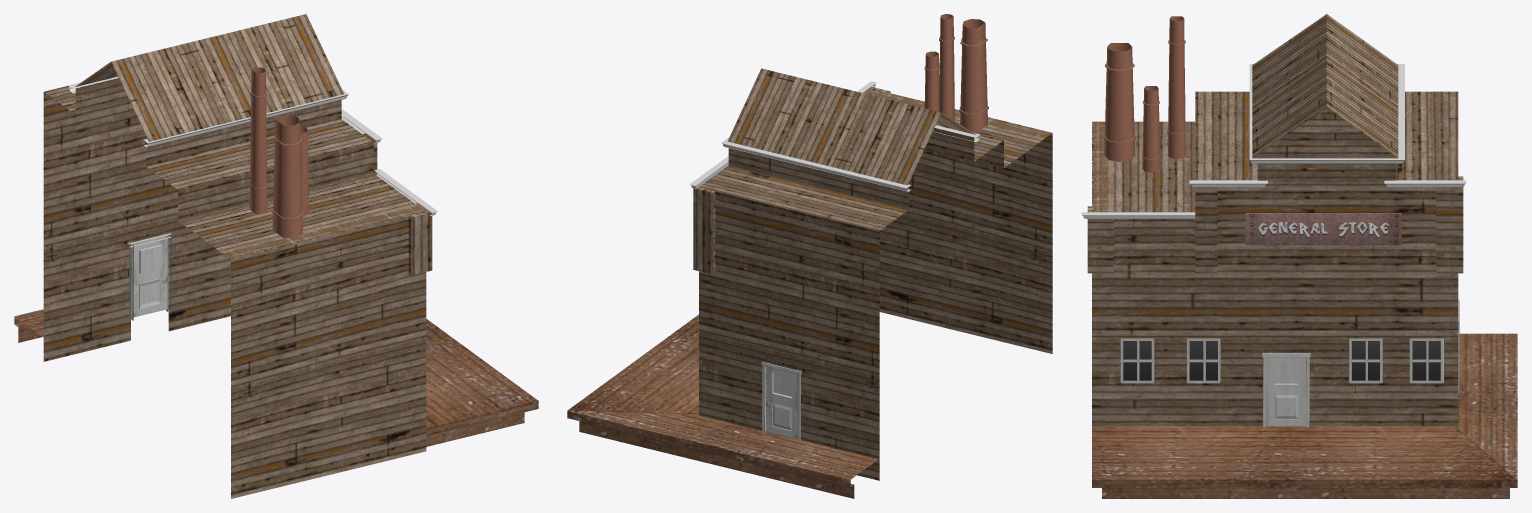
The model's file is bld_generalStore.fbx.
3 views of the same model, side by side, from view 1: azimuth 30°, elevation 25°; view 2: azimuth 150°, elevation 25°; view 3: azimuth 270°, elevation 25° (orthographic). The views are drawn at different scales.
Parts seen in each view (by area): view 1: general_store, polySurface3, polySurface15, PipeStacks, Door1, polySurface17; view 2: general_store, polySurface15, polySurface3, PipeStacks, Door1, polySurface17; view 3: general_store, polySurface15, polySurface3, polySurface17, PipeStacks, glass, Door, windows.
Boxes of the visible parts, x1,y1,x2,y2 form: general_store: (43,78,432,498); polySurface3: (75,14,343,141); polySurface15: (14,293,538,446); PipeStacks: (249,67,309,238); Door1: (128,233,171,321); polySurface17: (69,76,437,215); general_store: (693,86,1052,480); polySurface15: (567,314,878,498); polySurface3: (727,68,975,185); PipeStacks: (924,14,988,132); Door1: (761,362,801,440); polySurface17: (690,81,979,191); general_store: (1087,91,1463,426); polySurface15: (1092,333,1517,498); polySurface3: (1252,14,1398,158); polySurface17: (1081,64,1466,245); PipeStacks: (1103,16,1186,172); glass: (1123,341,1440,380); Door: (1262,353,1310,427); windows: (1120,338,1443,383).
Bounding box in the file's own units: 972 × 1139 × 1212.
